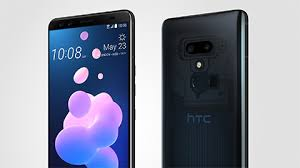htc: (46, 9, 138, 168), (159, 9, 251, 168)
